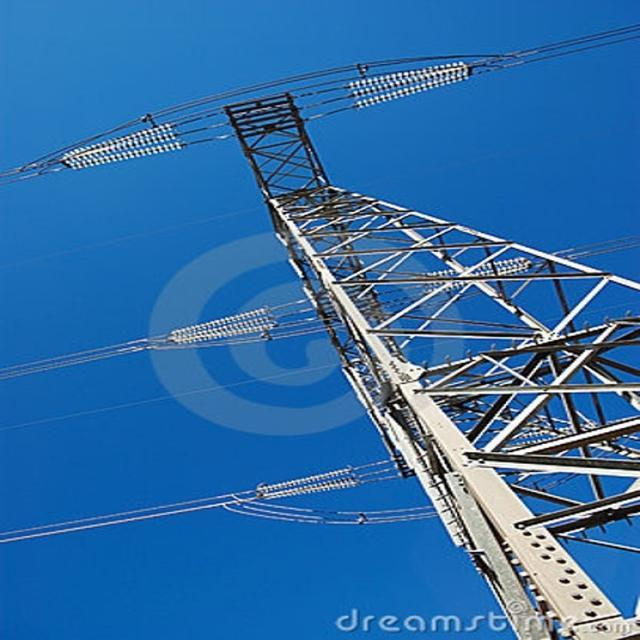non-critical vegetation: (51, 76, 636, 582)
